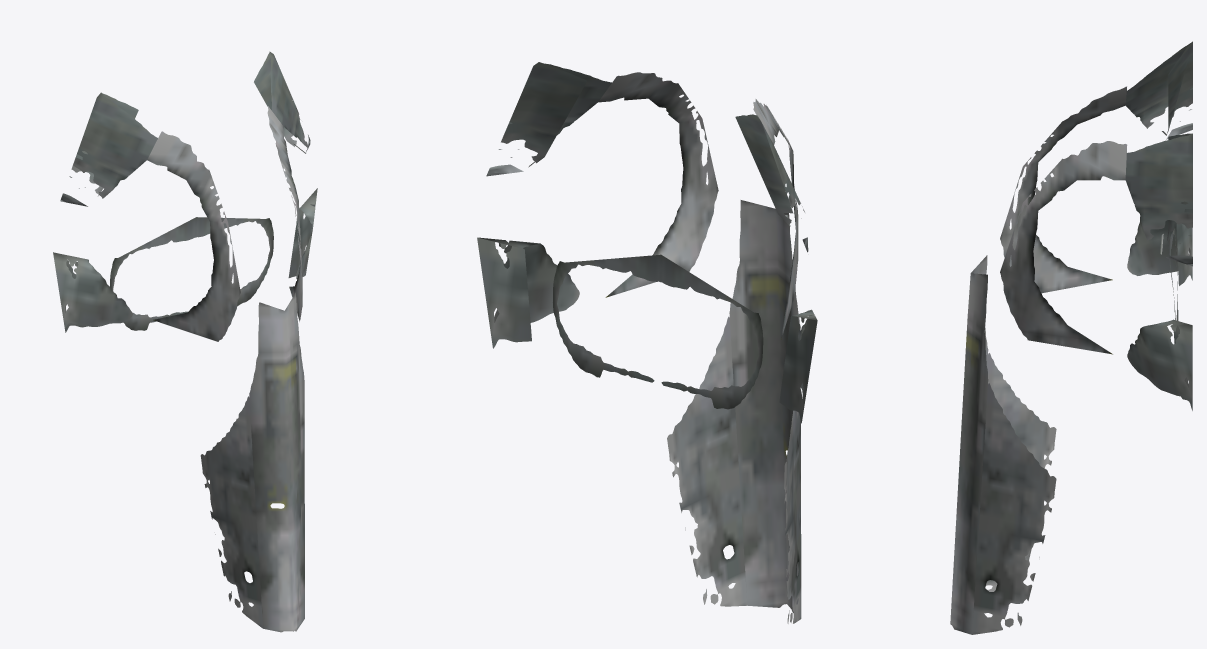
The model's file is kse_firespray_body_l3.fbx.
The picture shows the model from 3 angles, left to right: view 1: azimuth 30°, elevation 25°; view 2: azimuth 150°, elevation 25°; view 3: azimuth 270°, elevation 25°; orthographic projection. The views are drawn at different scales.
Visible parts, largest first — view 1: mesh_node; view 2: mesh_node; view 3: mesh_node.
Boxes of the visible parts, <box> form: mesh_node: <box>53,51,317,632</box>; mesh_node: <box>477,62,817,623</box>; mesh_node: <box>950,41,1192,634</box>.
Bounding box in the file's own units: 18.41 × 24.76 × 9.
Materials: 1 (1 with a texture image).
